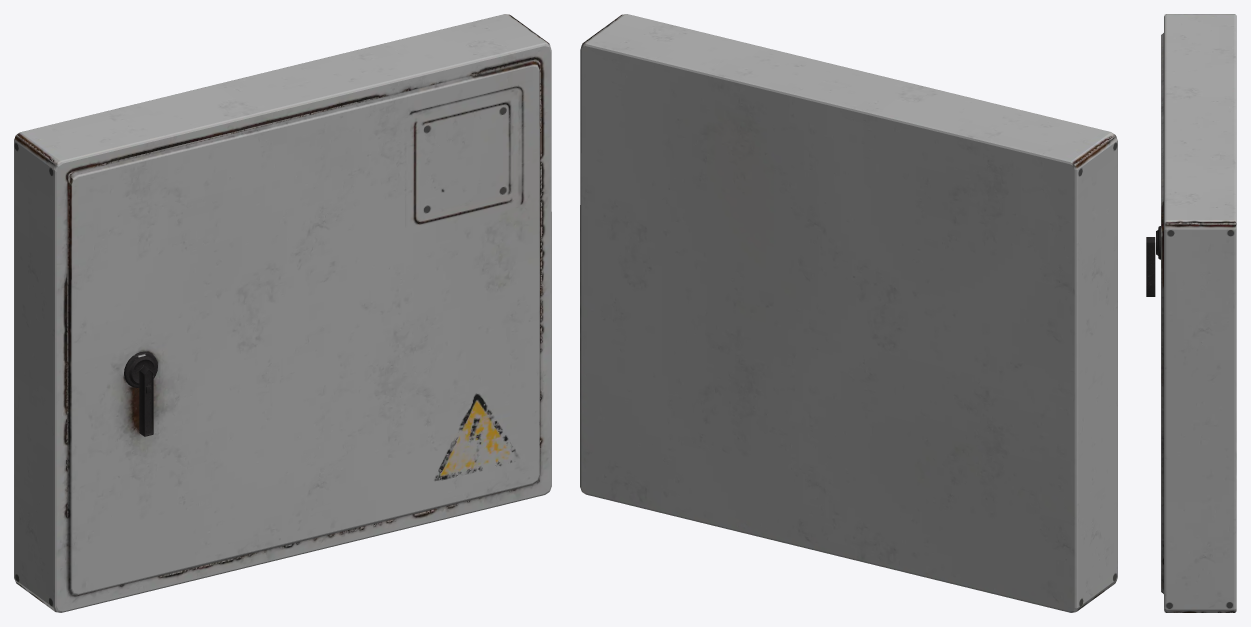
File: electrical_wall_panel.glb
3 renders of one model, left to right at view 1: azimuth 30°, elevation 25°; view 2: azimuth 150°, elevation 25°; view 3: azimuth 270°, elevation 25°, orthographic. The views are drawn at different scales.
Visible parts, largest first — view 1: Plane.002, Cube.006, Circle.008; view 2: Plane.002; view 3: Plane.002, Cube.006, Circle.008.
Boxes of the visible parts, left/top/right/bottom form: Plane.002: left=14, top=14, right=551, bottom=612; Cube.006: left=139, top=365, right=153, bottom=436; Circle.008: left=124, top=351, right=157, bottom=387; Plane.002: left=580, top=14, right=1117, bottom=612; Plane.002: left=1161, top=14, right=1236, bottom=612; Cube.006: left=1146, top=237, right=1155, bottom=296; Circle.008: left=1156, top=226, right=1160, bottom=259.
Size of the model in its own units: 0.5251 by 0.4554 by 0.095.
Materials: 3 (3 with a texture image).
